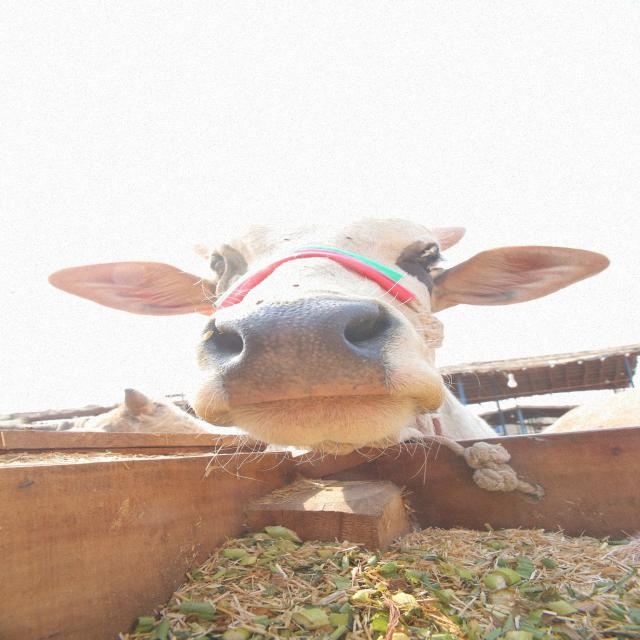muzzles: (190, 294, 429, 413)
